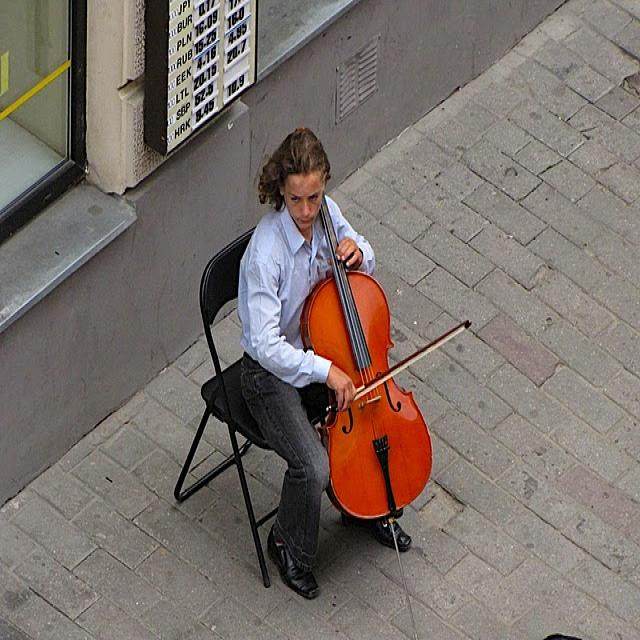cello: (298, 172, 436, 530)
